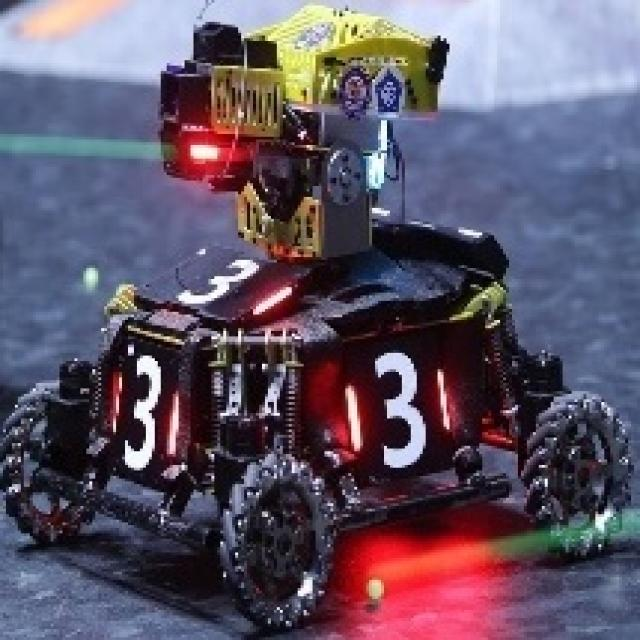R3: (342, 350, 462, 471), (107, 350, 188, 471)
